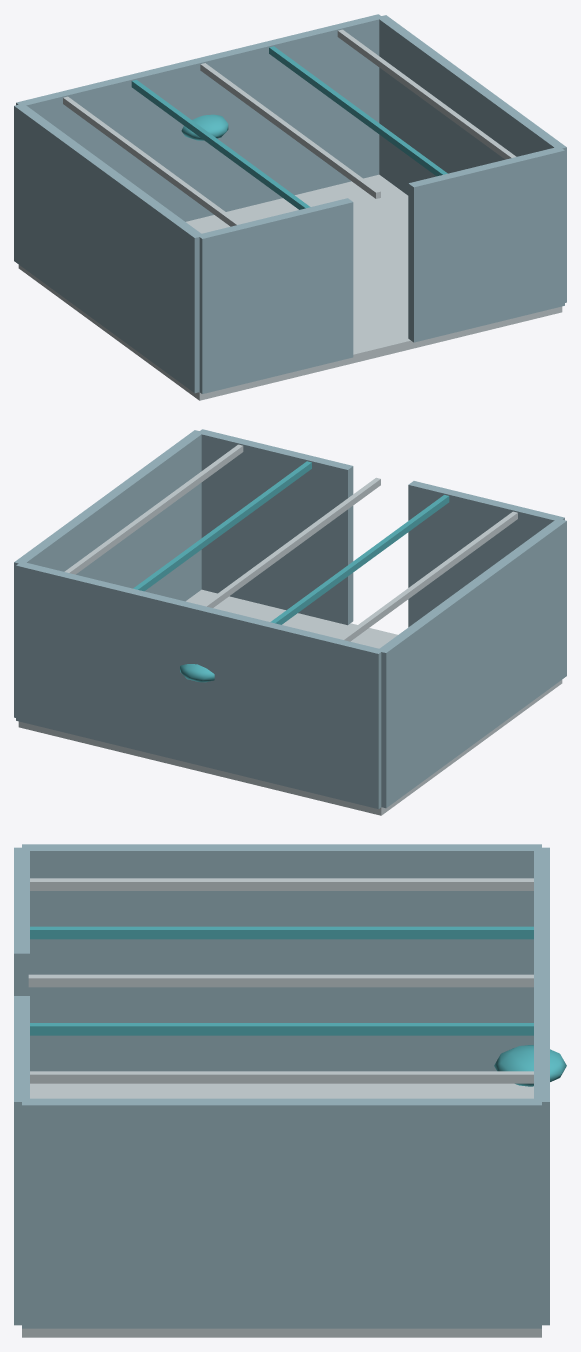
File: frostflower_altar.glb
The picture shows the model from 3 angles, top to bottom: view 1: azimuth 30°, elevation 25°; view 2: azimuth 150°, elevation 25°; view 3: azimuth 270°, elevation 25°; orthographic projection. The views are drawn at different scales.
Parts seen in each view (by area): view 1: wall_north, wall_west, wall_south_right, wall_south_left, wall_east, floor, ceiling_beam_0, ceiling_beam_-1, ceiling_beam_2, ceiling_beam_-2, ceiling_beam_1, purpose_aurora_shrine; view 2: wall_north, wall_west, wall_south_right, wall_east, wall_south_left, floor, ceiling_beam_-1, ceiling_beam_0, ceiling_beam_2, ceiling_beam_-2, ceiling_beam_1, purpose_aurora_shrine; view 3: wall_east, wall_west, floor, ceiling_beam_0, ceiling_beam_-1, ceiling_beam_-2, ceiling_beam_1, ceiling_beam_2, wall_north, wall_south_right, wall_south_left, purpose_aurora_shrine.
Part boxes in pixels (<box>): wall_north: <box>16,14,383,221</box>; wall_west: <box>14,103,203,393</box>; wall_south_right: <box>408,146,564,342</box>; wall_south_left: <box>198,198,353,393</box>; wall_east: <box>377,15,566,302</box>; floor: <box>18,174,562,400</box>; ceiling_beam_0: <box>200,63,380,198</box>; ceiling_beam_-1: <box>131,80,310,209</box>; ceiling_beam_2: <box>337,29,516,159</box>; ceiling_beam_-2: <box>63,96,241,226</box>; ceiling_beam_1: <box>269,46,447,176</box>; purpose_aurora_shrine: <box>181,114,228,140</box>; wall_north: <box>16,561,383,808</box>; wall_west: <box>378,518,566,808</box>; wall_south_right: <box>198,429,353,625</box>; wall_east: <box>14,430,203,717</box>; wall_south_left: <box>408,481,564,627</box>; floor: <box>18,589,562,815</box>; ceiling_beam_-1: <box>270,495,449,624</box>; ceiling_beam_0: <box>202,477,380,607</box>; ceiling_beam_2: <box>64,444,243,574</box>; ceiling_beam_-2: <box>339,511,517,641</box>; ceiling_beam_1: <box>133,461,311,591</box>; purpose_aurora_shrine: <box>180,664,214,682</box>; wall_east: <box>22,1098,541,1328</box>; wall_west: <box>22,844,541,1071</box>; floor: <box>22,1083,541,1337</box>; ceiling_beam_0: <box>28,974,533,987</box>; ceiling_beam_-1: <box>30,926,533,939</box>; ceiling_beam_-2: <box>30,878,533,890</box>; ceiling_beam_1: <box>30,1023,533,1035</box>; ceiling_beam_2: <box>30,1071,533,1083</box>; wall_north: <box>534,847,549,1325</box>; wall_south_right: <box>14,996,29,1325</box>; wall_south_left: <box>14,847,29,995</box>; purpose_aurora_shrine: <box>494,1045,566,1086</box>.
Size of what is drawn, in the model's own units: 13.55 by 5.7 by 12.13.
